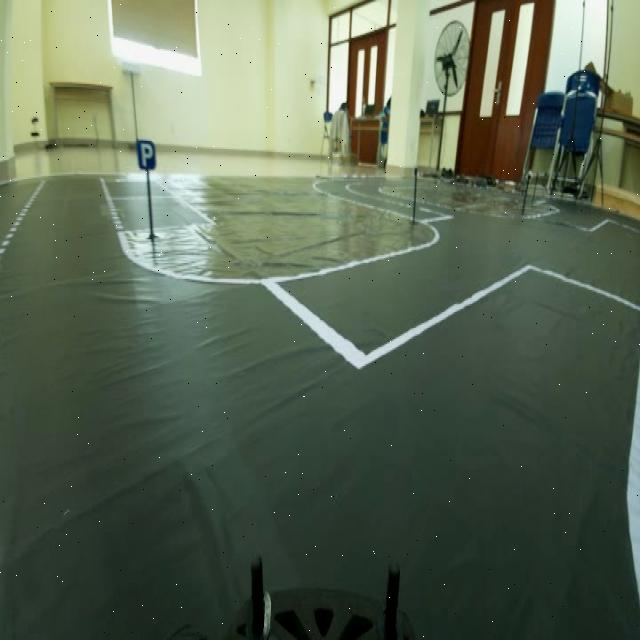parking: (131, 128, 161, 178)
